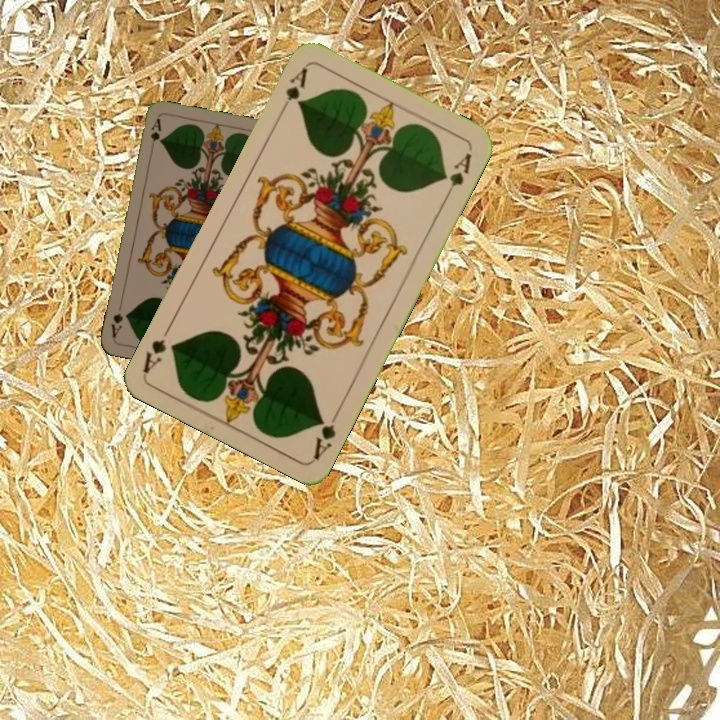GA: (276, 64, 311, 118), (309, 405, 342, 462), (146, 114, 164, 155)
